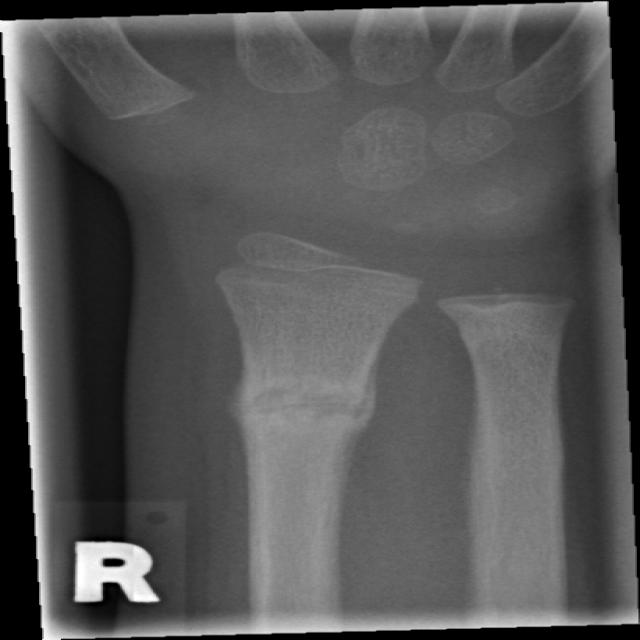radius fracture: (179, 345, 407, 519)
